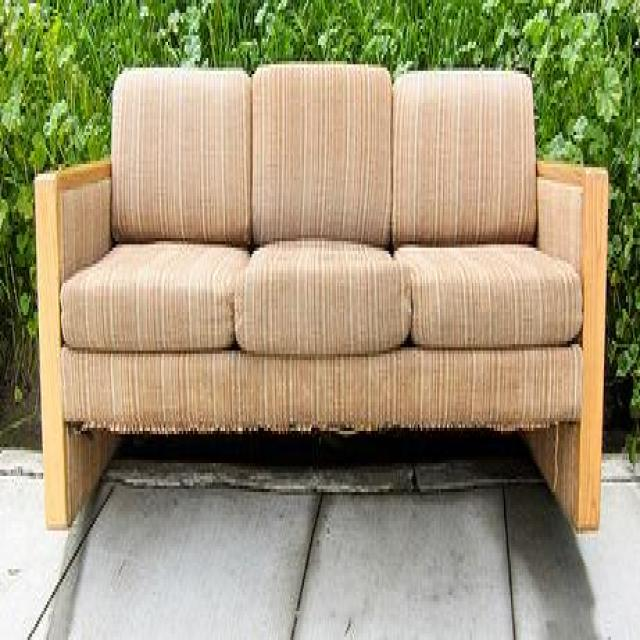sofa: (35, 64, 607, 529)
